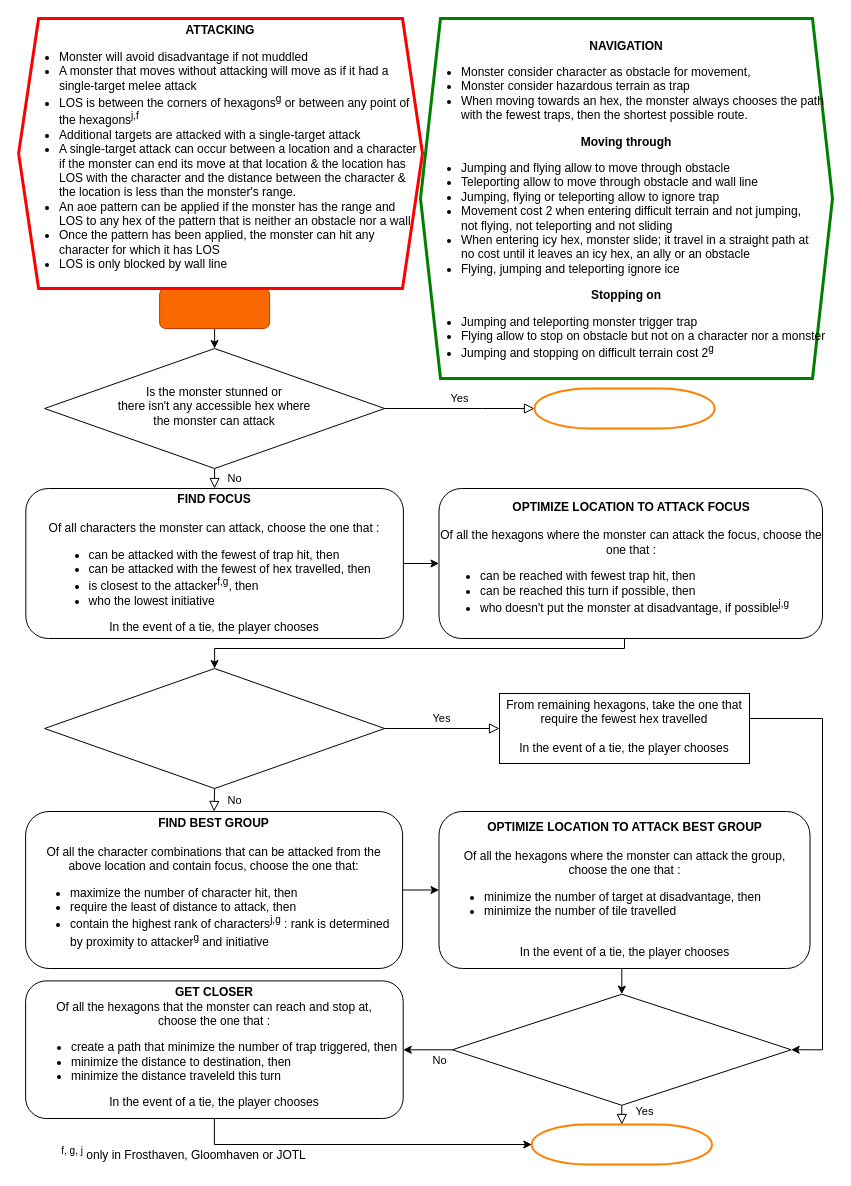
Some shapes in this 851 by 1186 pixel diagram are drawn without their labels. Here are the shapes that lost their labels. From the top down, the box of each, then its label:
(159, 288, 270, 328): Start
(533, 387, 715, 429): Monster does not move
(44, 668, 385, 788): Single target attack or (cannot reach the hex to attack focus) f ?
(451, 993, 791, 1105): Can the monster reach the destination this turn ?
(530, 1123, 712, 1165): Monster move to this destination
